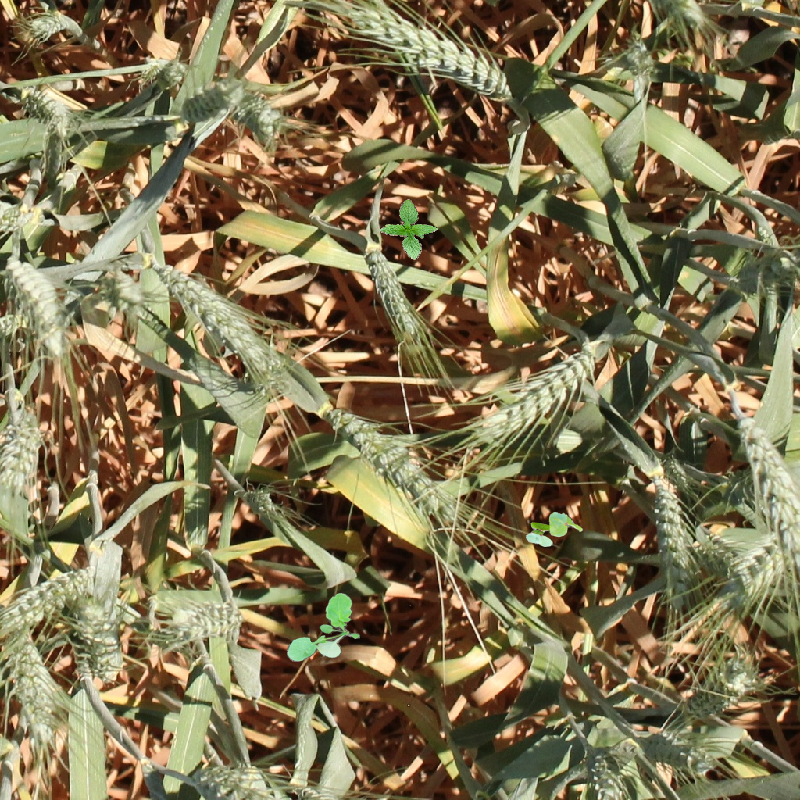spikelet: (346, 2, 516, 105), (328, 407, 457, 522), (159, 263, 280, 369), (473, 353, 595, 444), (735, 415, 800, 568), (3, 257, 75, 352), (3, 633, 58, 745), (1, 565, 92, 632), (650, 476, 694, 603), (364, 247, 423, 341), (682, 654, 759, 719), (72, 594, 125, 684), (724, 535, 794, 600), (1, 407, 45, 496), (166, 596, 245, 644), (638, 725, 713, 775), (186, 760, 278, 800), (18, 81, 81, 138), (229, 87, 287, 140), (177, 77, 240, 125), (583, 750, 633, 800), (95, 268, 144, 315), (137, 52, 190, 90), (621, 36, 658, 81), (23, 8, 67, 42), (242, 484, 280, 521), (1, 195, 28, 236)
weed: (373, 193, 445, 265), (287, 593, 360, 662), (526, 512, 583, 547)
